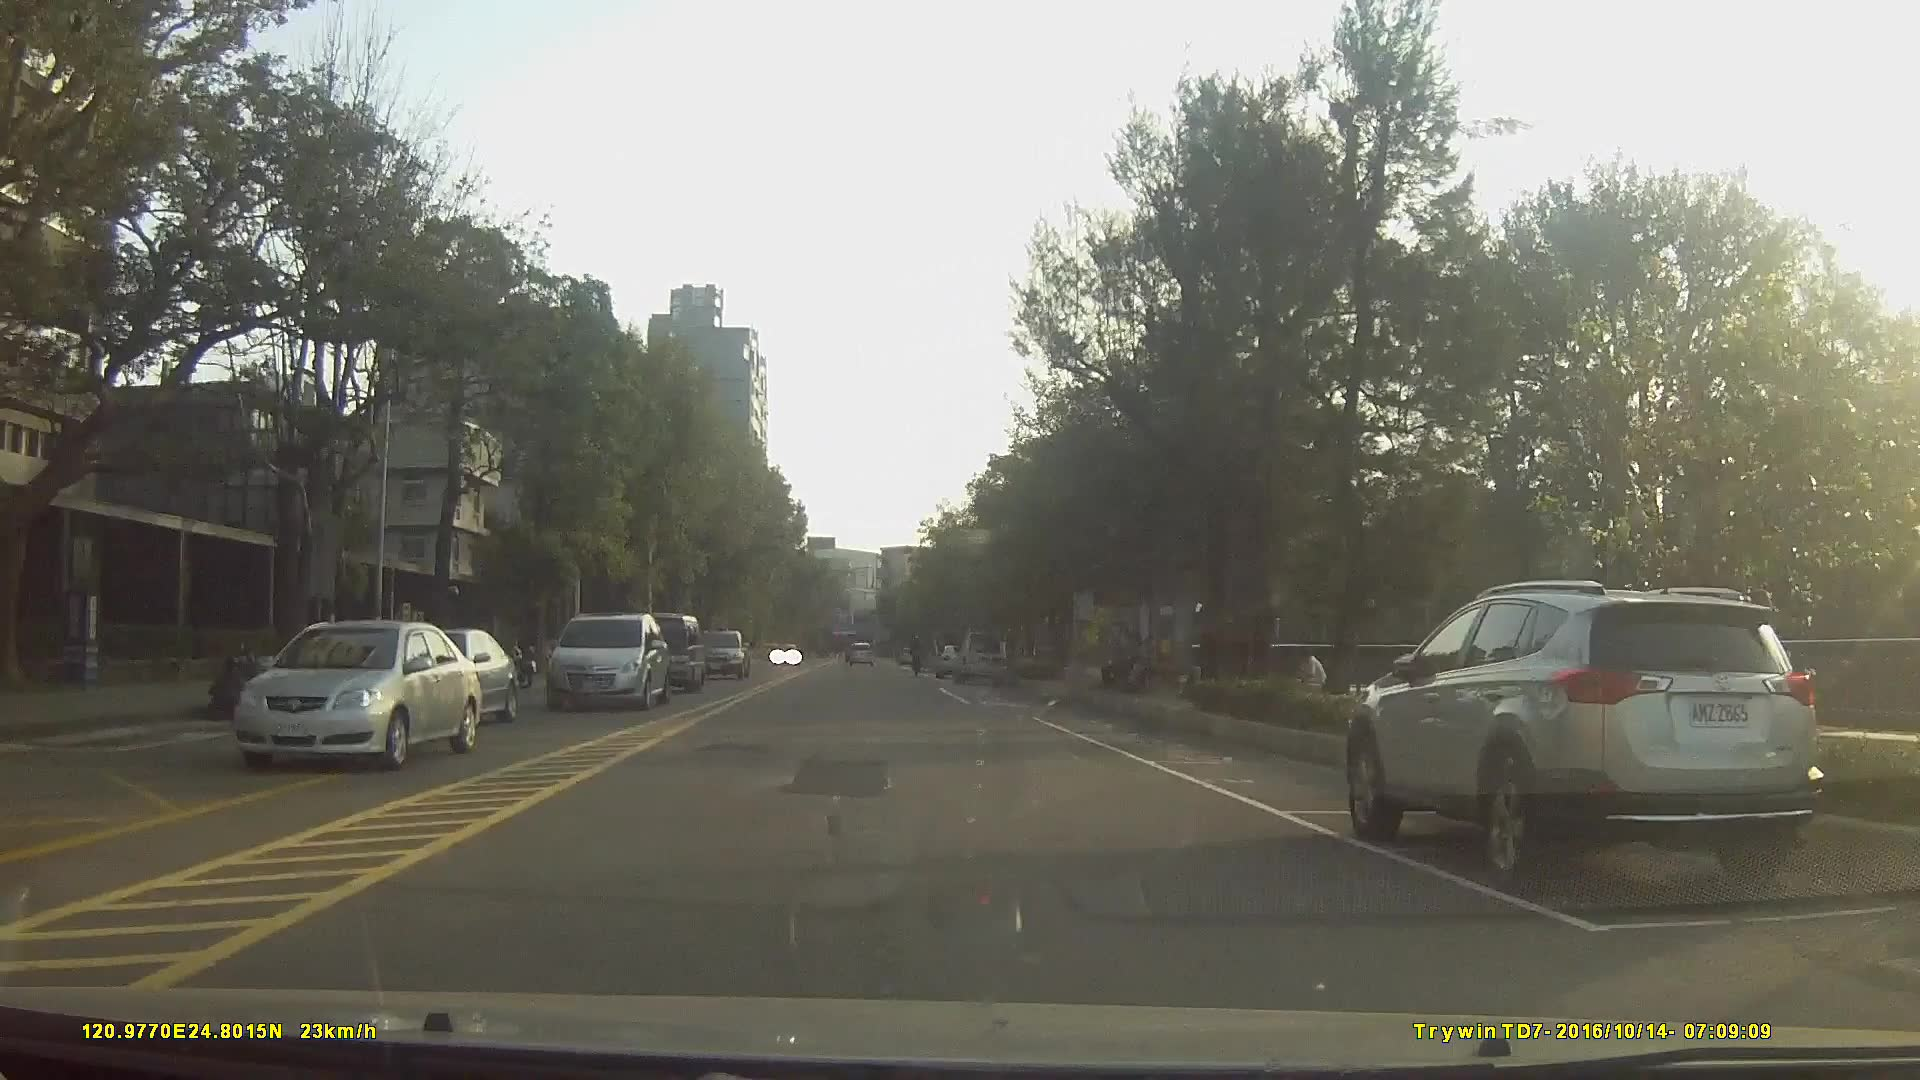rider: (909, 634, 929, 679)
vehicle: (1345, 575, 1828, 888), (229, 617, 481, 768), (393, 625, 519, 729), (543, 612, 668, 710), (618, 612, 704, 689), (950, 626, 1012, 679), (694, 627, 749, 677), (933, 641, 969, 677), (845, 637, 875, 667)
